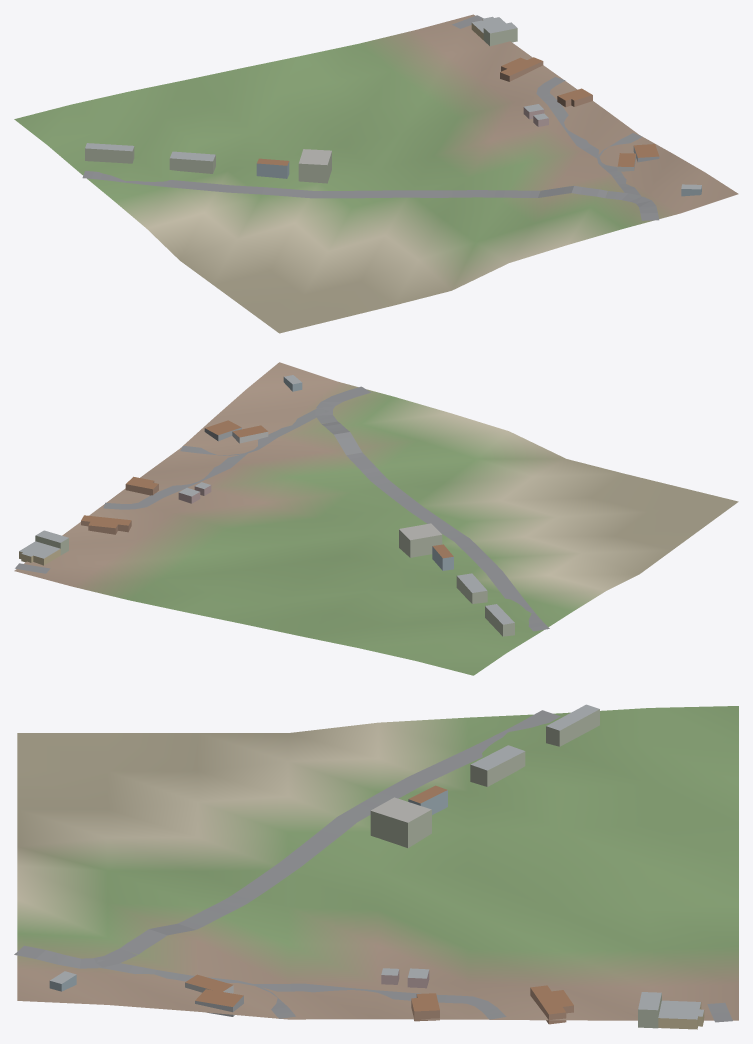
3 renders of one model, top to bottom at view 1: azimuth 30°, elevation 25°; view 2: azimuth 150°, elevation 25°; view 3: azimuth 270°, elevation 25°, orthographic. The views are drawn at different scales.
Visible parts, largest first — view 1: Lo; view 2: Lo; view 3: Lo.
Boxes of the visible parts, x1,y1,x2,y2 form: Lo: [14, 14, 738, 333]; Lo: [14, 362, 738, 675]; Lo: [14, 704, 738, 1029].
Bounding box in the file's own units: 264 × 15.89 × 257.
